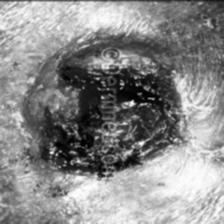Potentially Malignant Skin Tumors: (28, 40, 96, 186), (120, 52, 180, 166)
